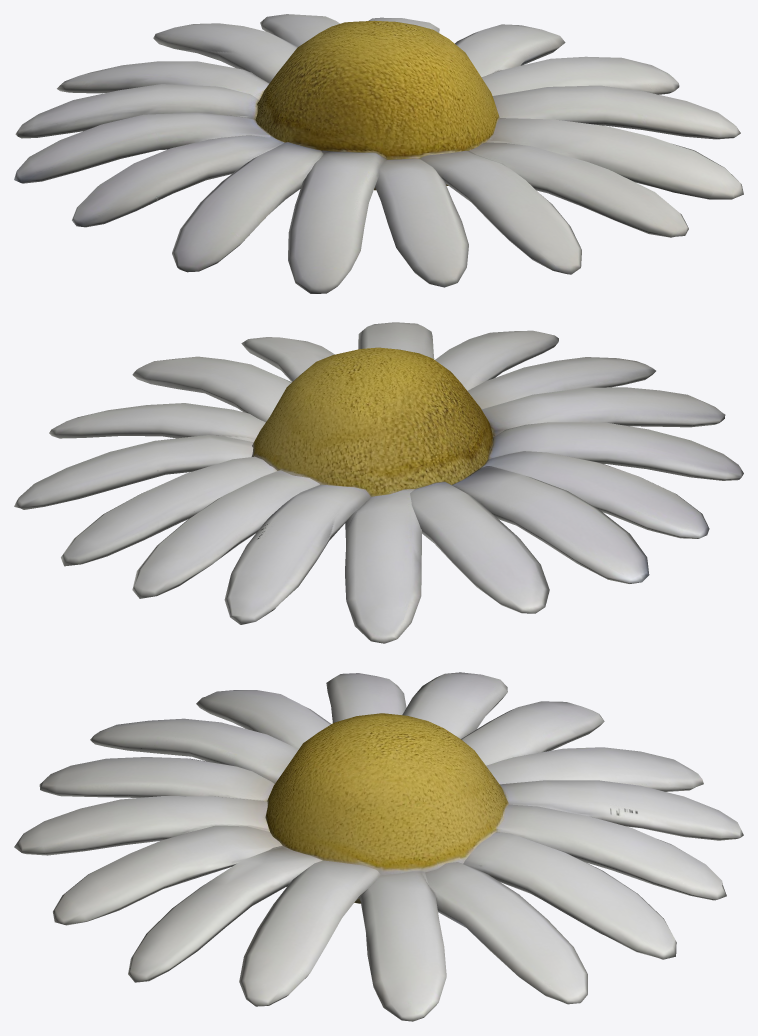
File: camomila.fbx
3 renders of one model, top to bottom at view 1: azimuth 30°, elevation 25°; view 2: azimuth 150°, elevation 25°; view 3: azimuth 270°, elevation 25°, orthographic.
Visible parts, largest first — view 1: camomila; view 2: camomila; view 3: camomila.
Part boxes in pixels (x1,y1,x2,y2): camomila: (14,14,743,293); camomila: (14,322,743,643); camomila: (14,672,743,1021).
Size of the model in its own units: 53.48 by 11.64 by 52.96.
1 material, 1 textured.
